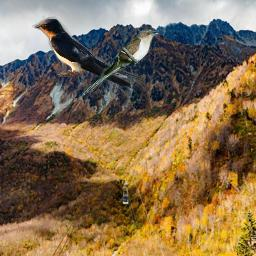Cuckoo: (79, 29, 162, 99)
Swallow: (32, 15, 147, 88)
